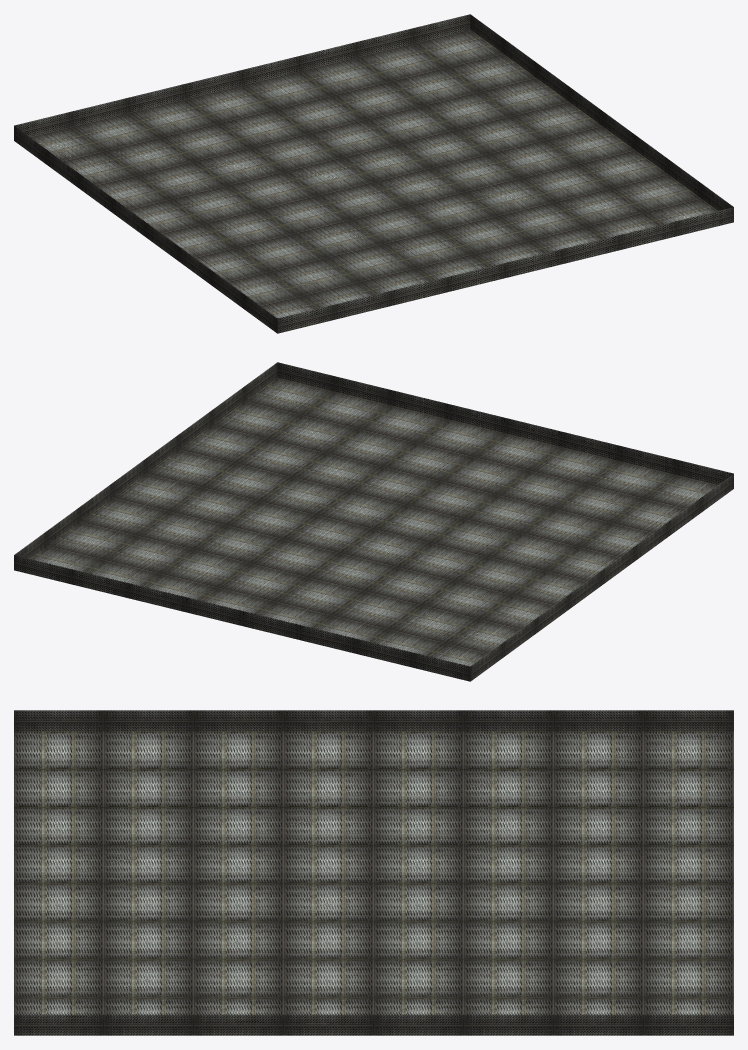
The model's file is floor_a.FBX.
3 views of the same model, one above another, from view 1: azimuth 30°, elevation 25°; view 2: azimuth 150°, elevation 25°; view 3: azimuth 270°, elevation 25° (orthographic). The views are drawn at different scales.
Parts seen in each view (by area): view 1: floor; view 2: floor; view 3: floor.
Part boxes in pixels (x1,y1,x2,y2): floor: (14, 14, 733, 333); floor: (14, 362, 733, 681); floor: (14, 710, 733, 1035).
Bounding box in the file's own units: 304 × 9.7 × 304.
1 material, 1 textured.
